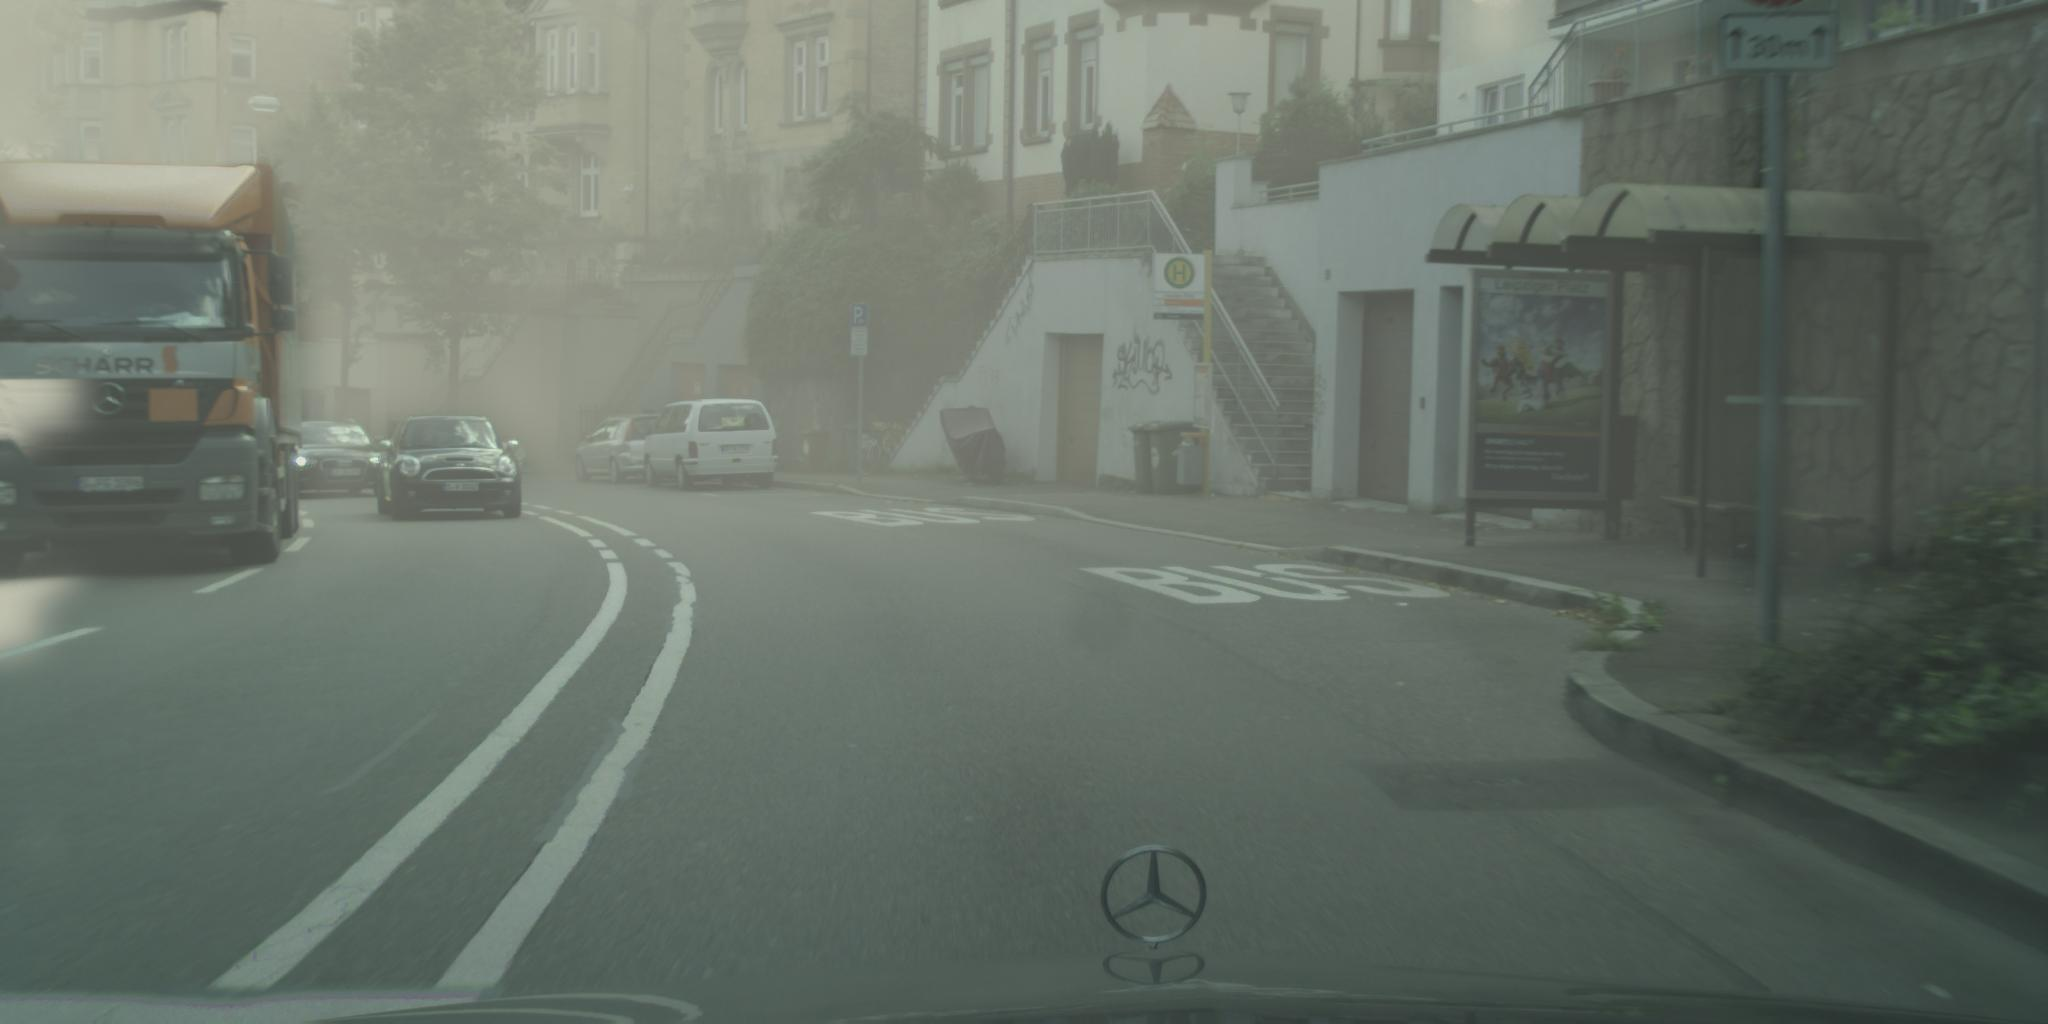bicycle: (856, 427, 910, 483)
car: (376, 413, 524, 522), (635, 398, 781, 491), (283, 421, 396, 498), (575, 410, 670, 485)
truck: (1, 158, 304, 581)
